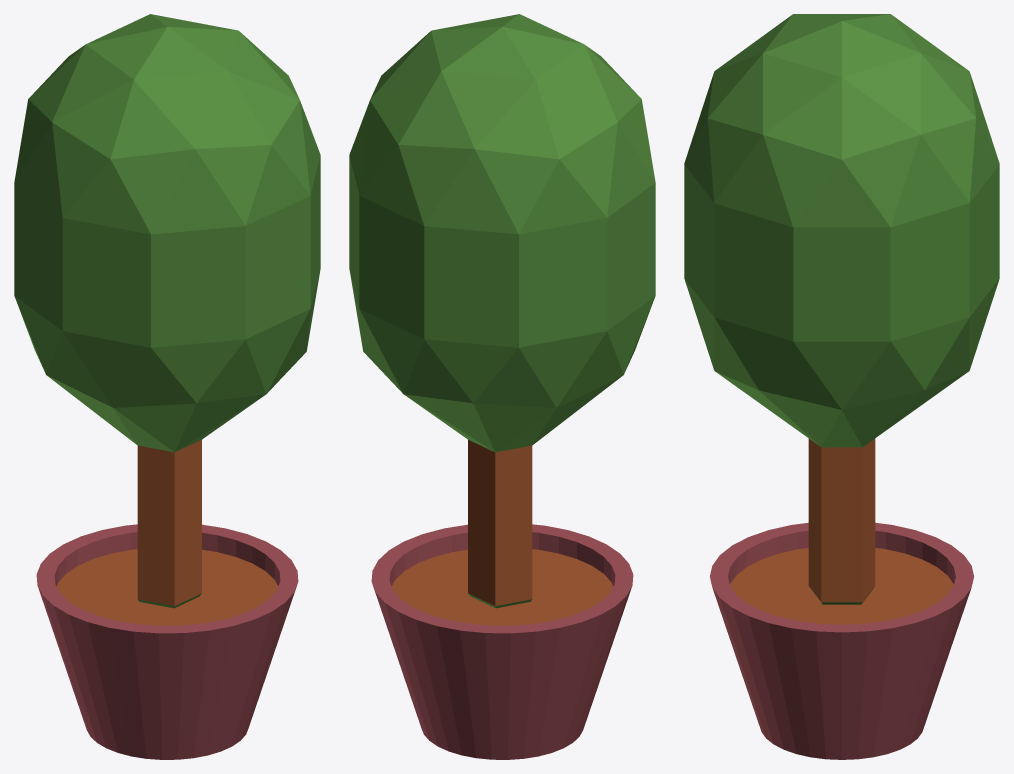
File: Boompje.fbx
The picture shows the model from 3 angles, left to right: view 1: azimuth 30°, elevation 25°; view 2: azimuth 150°, elevation 25°; view 3: azimuth 270°, elevation 25°; orthographic projection.
Visible parts, largest first — view 1: Icosphere, Cylinder; view 2: Icosphere, Cylinder; view 3: Icosphere, Cylinder.
Part boxes in pixels (left/top/right/bottom): Icosphere: left=14, top=14, right=320, bottom=608; Cylinder: left=36, top=524, right=298, bottom=759; Icosphere: left=349, top=14, right=655, bottom=608; Cylinder: left=371, top=524, right=633, bottom=759; Icosphere: left=684, top=14, right=999, bottom=604; Cylinder: left=710, top=522, right=973, bottom=759.
Size of the model in its own units: 114 by 296 by 120.
